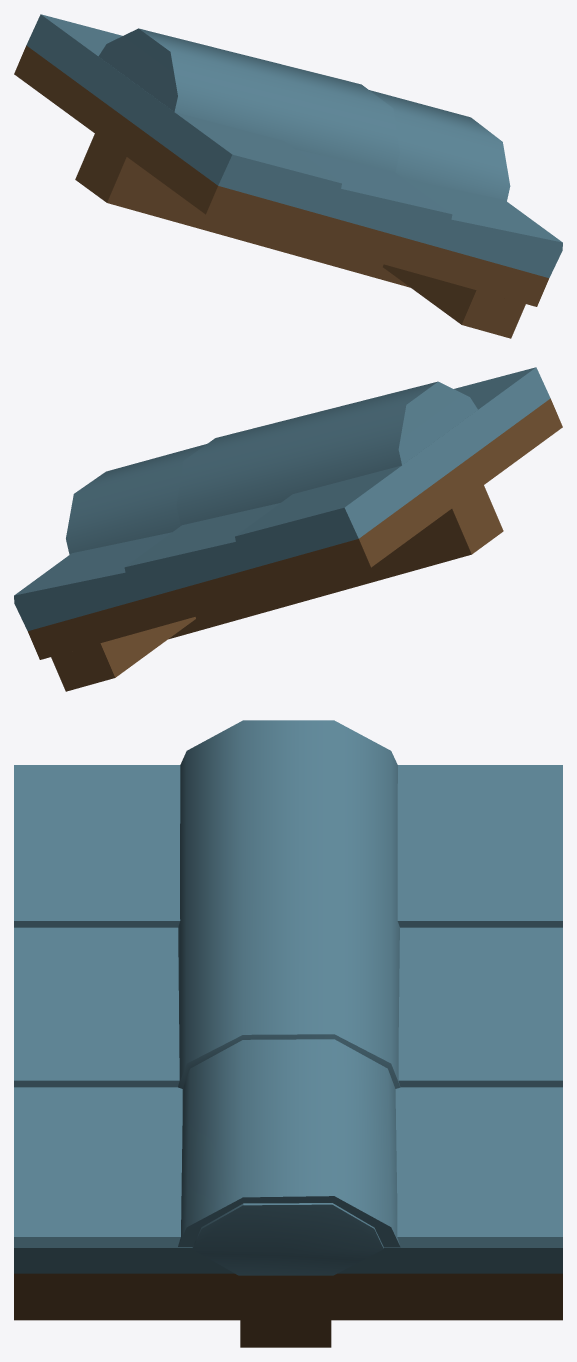
Rendered from BlueRoof_Decor_Half.fbx.
The picture shows the model from 3 angles, top to bottom: view 1: azimuth 30°, elevation 25°; view 2: azimuth 150°, elevation 25°; view 3: azimuth 270°, elevation 25°; orthographic projection. The views are drawn at different scales.
Parts seen in each view (by area): view 1: BlueRoof_Decor_Half; view 2: BlueRoof_Decor_Half; view 3: BlueRoof_Decor_Half.
Boxes of the visible parts, bbox=[...] form: BlueRoof_Decor_Half: bbox=[14, 14, 562, 338]; BlueRoof_Decor_Half: bbox=[14, 367, 562, 691]; BlueRoof_Decor_Half: bbox=[14, 720, 562, 1347].
Size of what is drawn, in the model's own units: 71.92 by 53.34 by 60.2.
